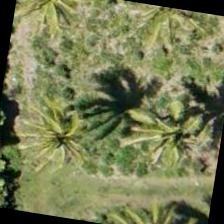Kelapa_Sawit: (10, 86, 113, 189), (126, 86, 223, 190), (116, 0, 212, 60), (11, 0, 100, 47)
